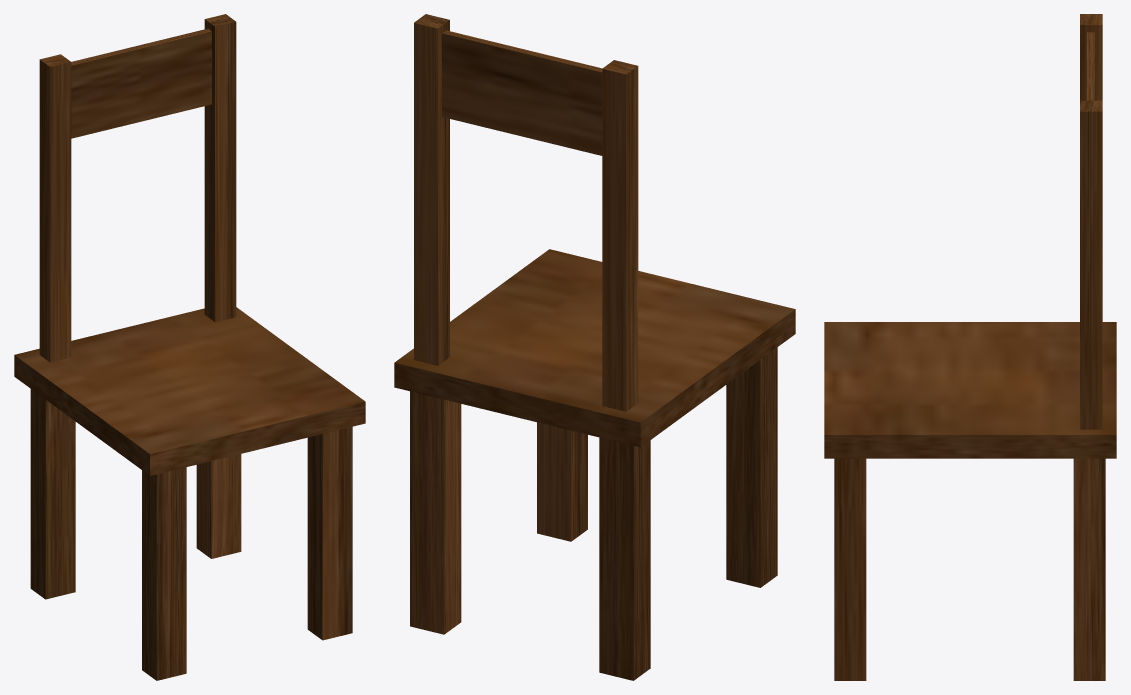
Rendered from chair.fbx.
3 renders of one model, left to right at view 1: azimuth 30°, elevation 25°; view 2: azimuth 150°, elevation 25°; view 3: azimuth 270°, elevation 25°, orthographic. The views are drawn at different scales.
Visible parts, largest first — view 1: Cube.001; view 2: Cube.001; view 3: Cube.001.
Part boxes in pixels (box(x1,y1,x2,y2)): Cube.001: box(14, 14, 365, 680); Cube.001: box(394, 14, 795, 680); Cube.001: box(824, 14, 1116, 680).
Size of the model in its own units: 56.19 by 132 by 61.34.
1 material, 1 textured.
